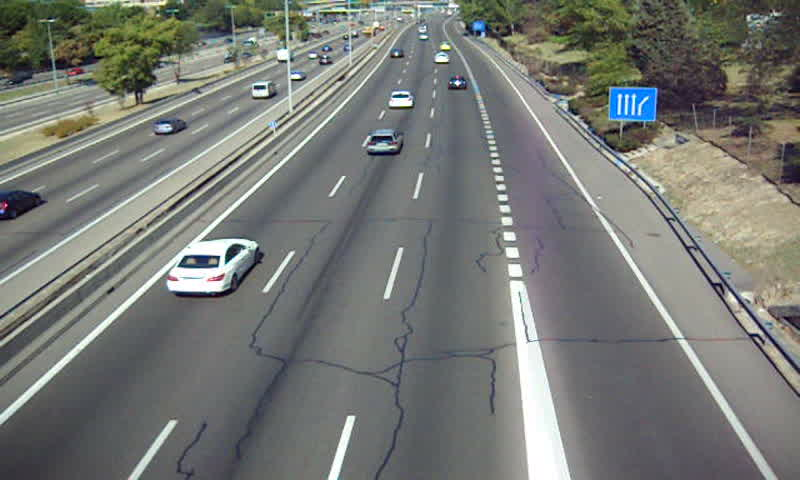car: (166, 238, 260, 296), (366, 129, 404, 156), (389, 91, 414, 108), (447, 75, 467, 92)
